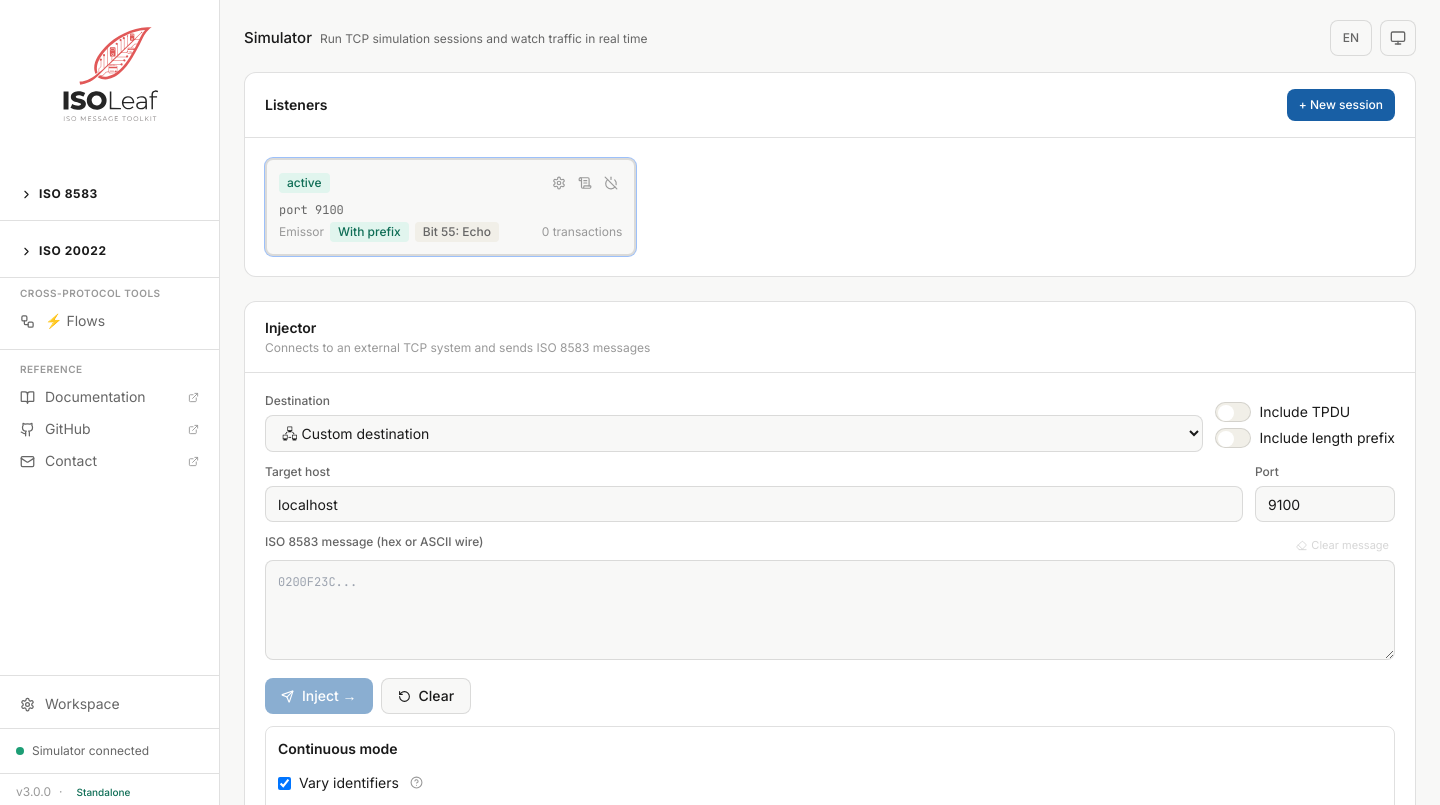
Test: Simulator page — redesigned layout › EMV config modal shows ValidateArqc toggle only when GenerateArpc selected
The width and height of the screenshot is (1440, 805).
Expected: the text "port 9100" is shown, [279,202,344,218]
Click the button with test id "emv-config-button" at x=559, y=183, box [548,172,570,194]
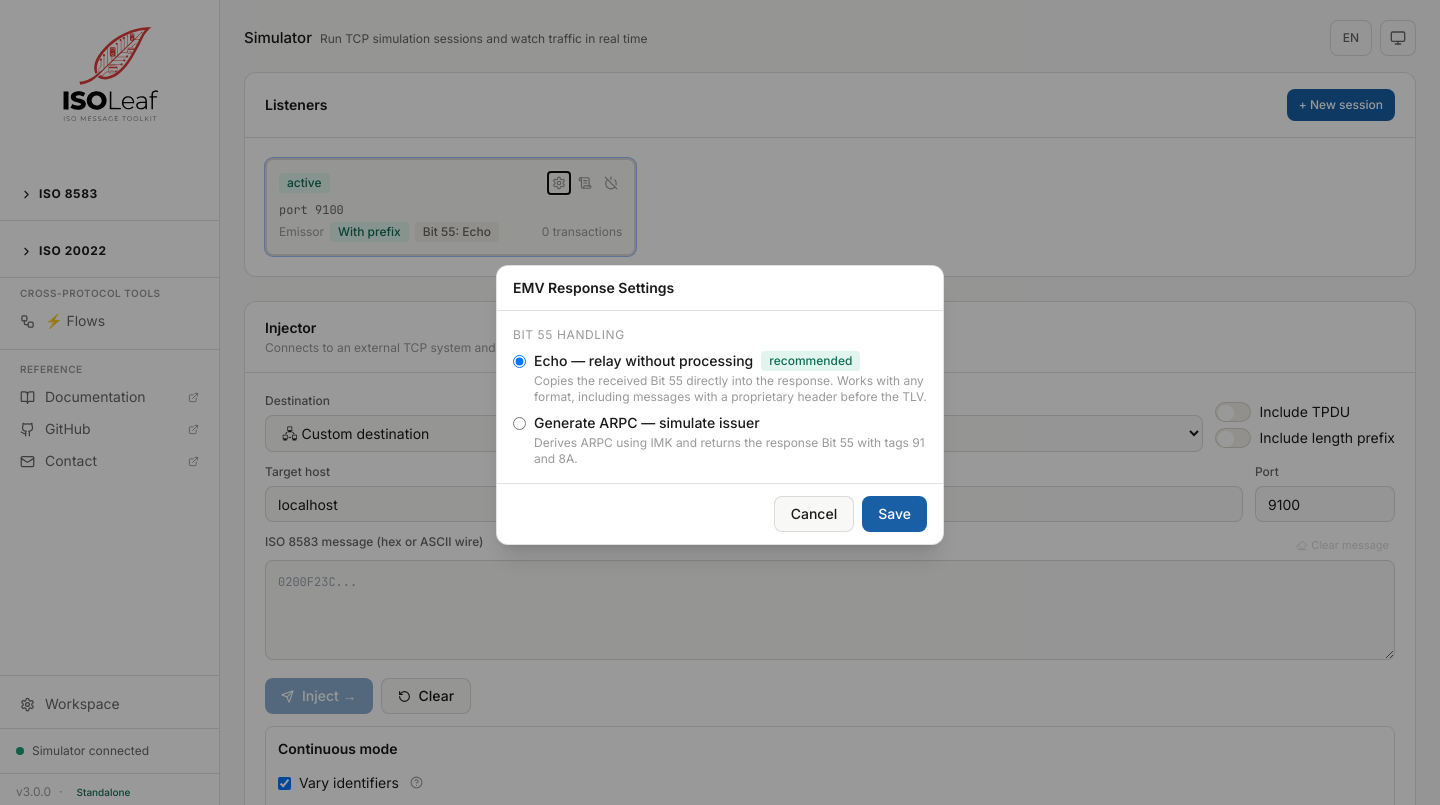
// Flip to GenerateArpc → toggle appears.
Click the 2nd radio button at x=520, y=424, box [513,417,526,430]
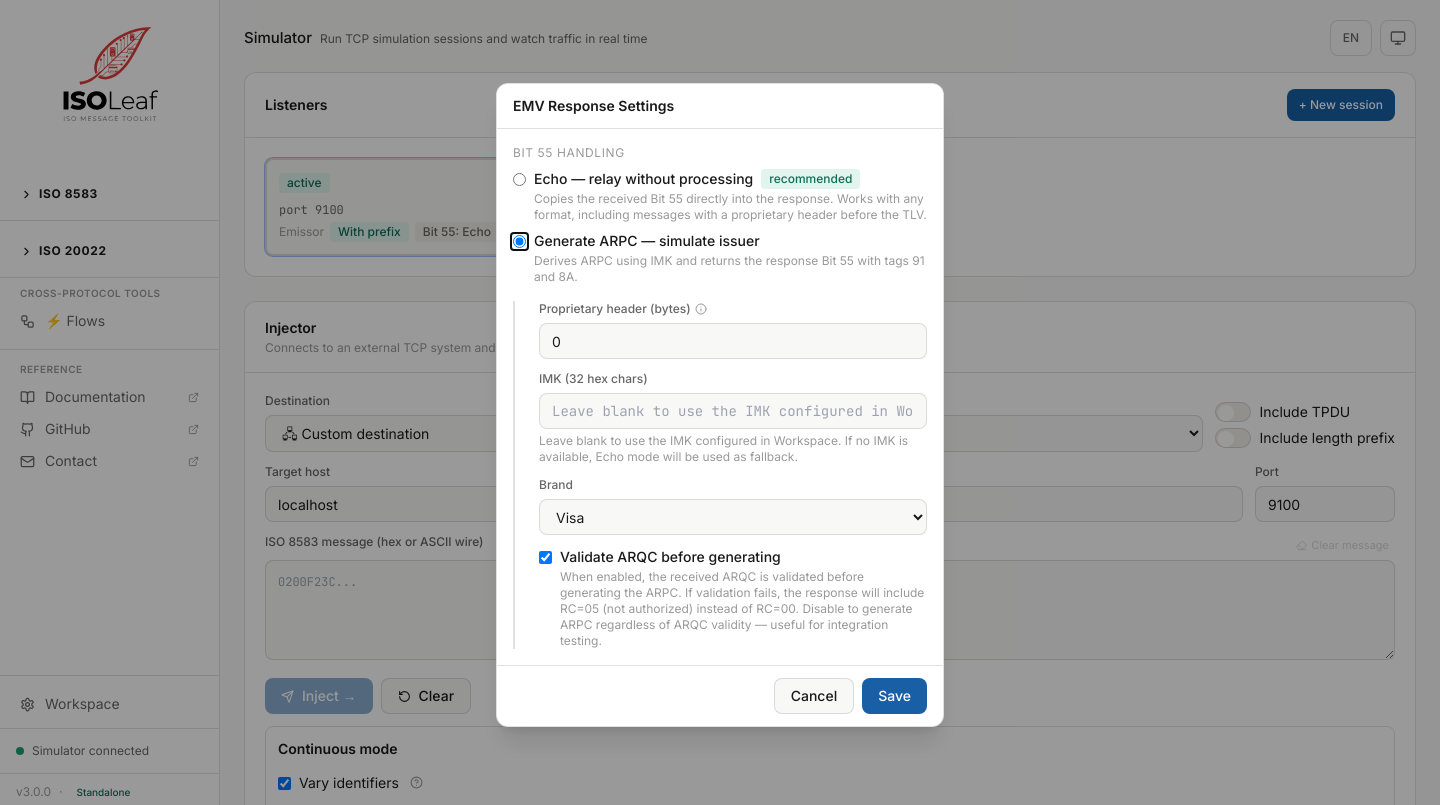
Expected: the checkbox with test id "validate-arqc-toggle" is shown, [539,551,552,564]
